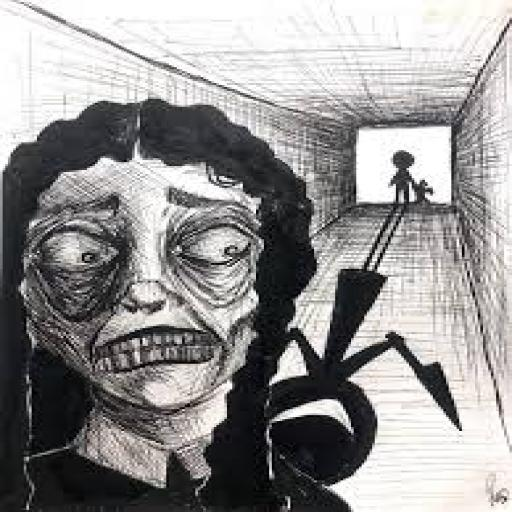person: (5, 91, 317, 512), (377, 142, 464, 218)
